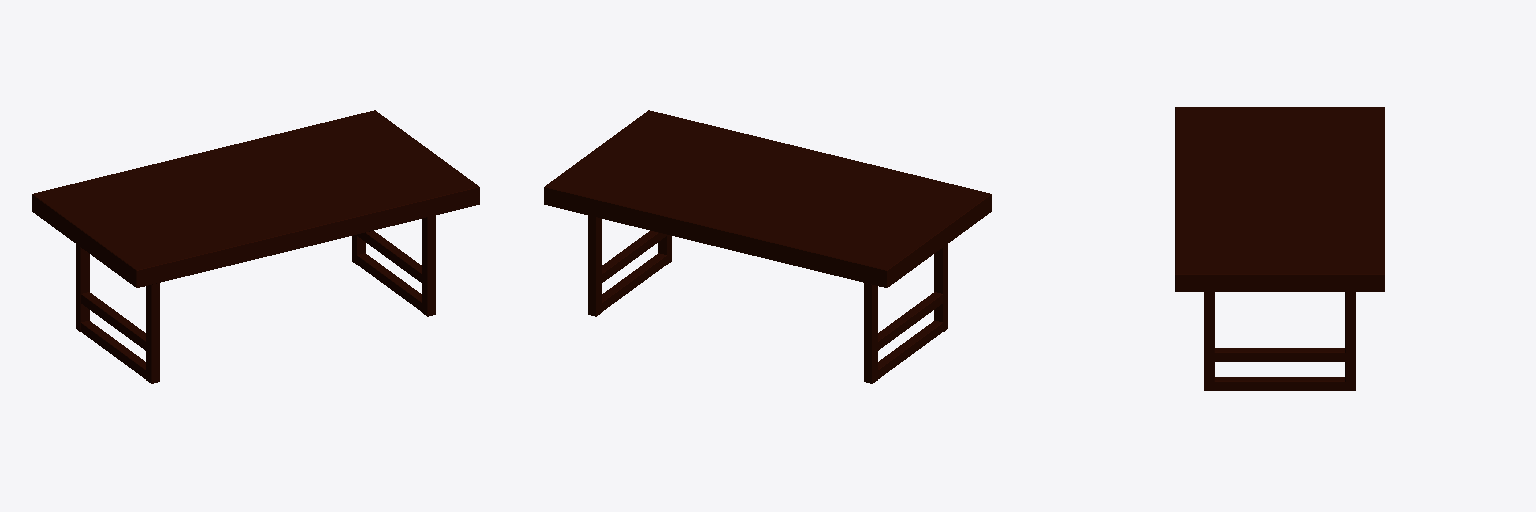
Rendered from WoodKitchenTable1.obj.
3 views of the same model, side by side, from view 1: azimuth 30°, elevation 25°; view 2: azimuth 150°, elevation 25°; view 3: azimuth 270°, elevation 25° (orthographic).
Visible parts, largest first — view 1: WoodKitchenTable1_Cube.003; view 2: WoodKitchenTable1_Cube.003; view 3: WoodKitchenTable1_Cube.003.
Boxes of the visible parts, <box> form: WoodKitchenTable1_Cube.003: <box>32,110,479,383</box>; WoodKitchenTable1_Cube.003: <box>544,110,991,383</box>; WoodKitchenTable1_Cube.003: <box>1175,107,1384,390</box>.
Bounding box in the file's own units: 2.42 × 0.8858 × 1.28.